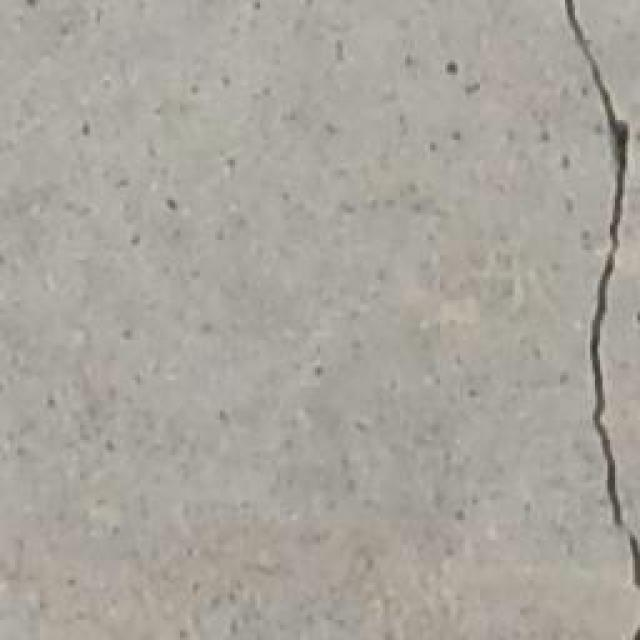concrete-crack: (560, 0, 640, 592)
